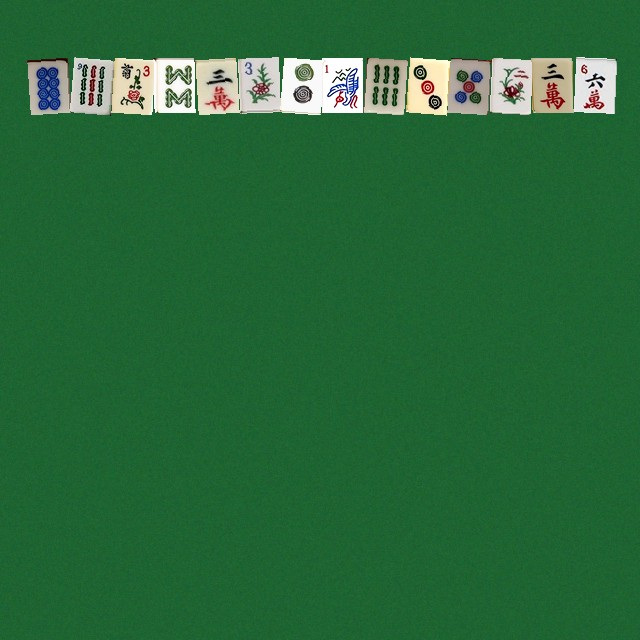tile: (27, 57, 68, 112), (69, 57, 110, 112), (111, 57, 152, 112), (153, 57, 194, 112), (195, 57, 236, 112), (237, 57, 278, 112), (279, 57, 320, 112), (321, 57, 362, 112), (363, 57, 404, 112), (405, 57, 446, 112), (447, 57, 488, 112), (489, 57, 530, 112), (531, 57, 572, 112), (573, 57, 614, 112)
